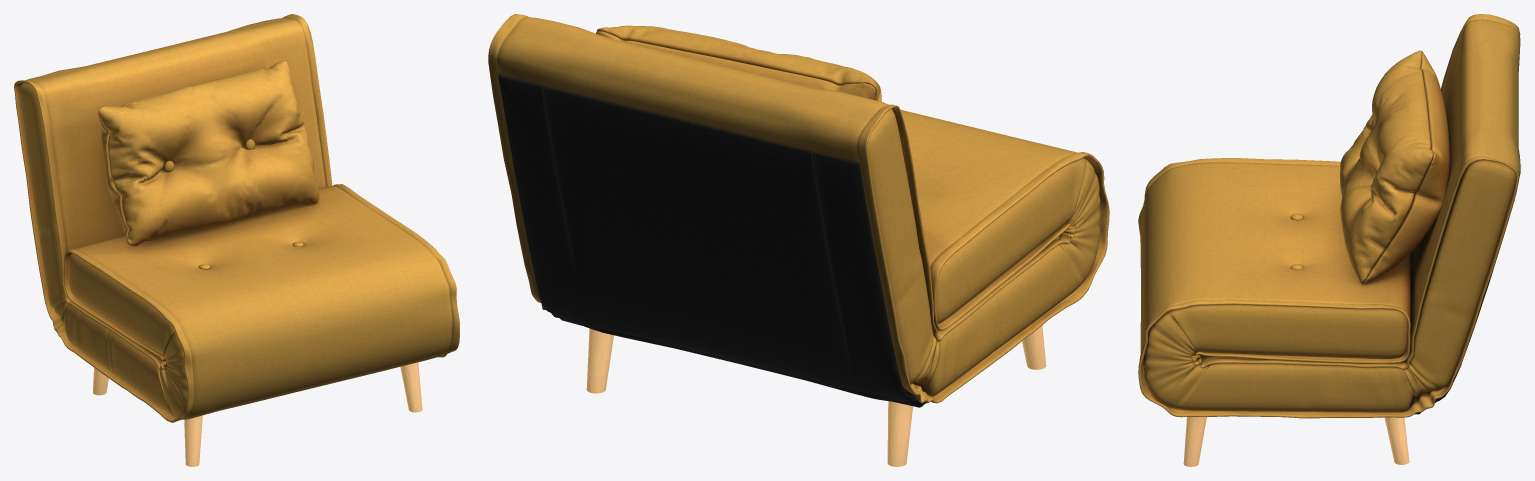
The model's file is haru_single_sofa_bed_butter_yellow.glb.
The picture shows the model from 3 angles, left to right: view 1: azimuth 30°, elevation 25°; view 2: azimuth 150°, elevation 25°; view 3: azimuth 270°, elevation 25°; orthographic projection. The views are drawn at different scales.
Visible parts, largest first — view 1: FABRIC001, WOOD; view 2: FABRIC001, BLACK_FABRIC001, WOOD; view 3: FABRIC001, WOOD.
Part boxes in pixels (x1=…): FABRIC001: x1=14, y1=14, x2=459, y2=422; WOOD: x1=93, y1=362, x2=422, y2=466; FABRIC001: x1=488, y1=14, x2=1109, y2=403; BLACK_FABRIC001: x1=498, y1=75, x2=927, y2=407; WOOD: x1=586, y1=325, x2=1046, y2=466; FABRIC001: x1=1138, y1=14, x2=1520, y2=418; WOOD: x1=1183, y1=417, x2=1409, y2=466.
Size of what is drawn, in the model's own units: 77.26 by 77.83 by 85.34.
Materials: 3 (3 with a texture image).
